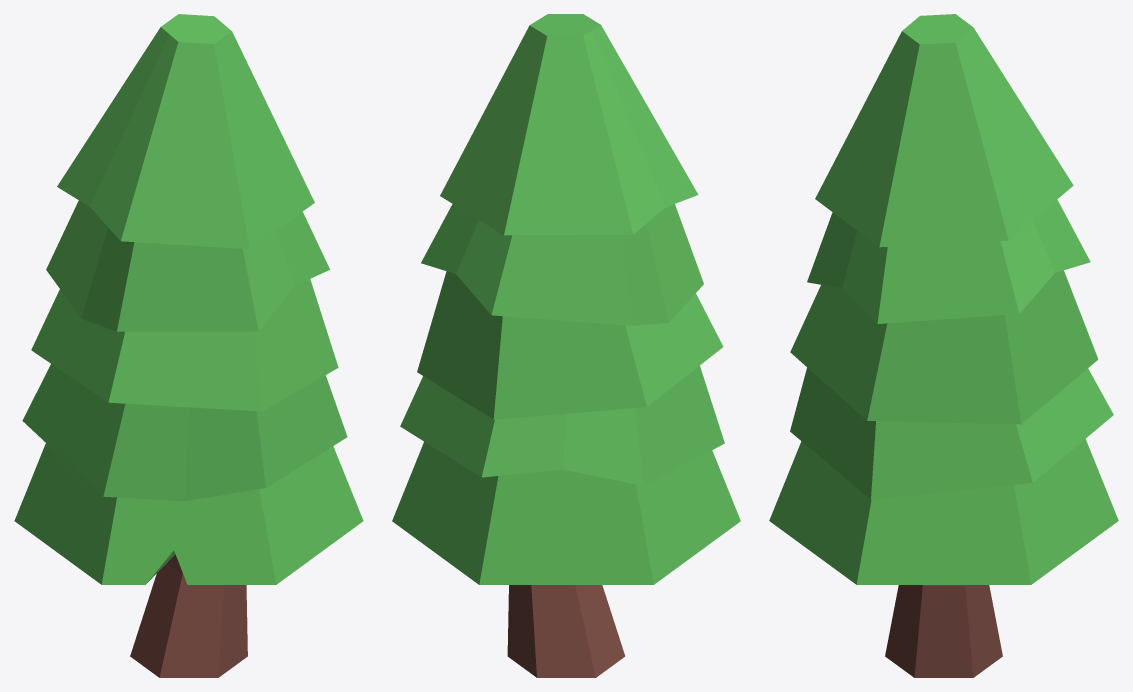
File: Tree again.fbx
3 views of the same model, side by side, from view 1: azimuth 30°, elevation 25°; view 2: azimuth 150°, elevation 25°; view 3: azimuth 270°, elevation 25° (orthographic).
Visible parts, largest first — view 1: Tree; view 2: Tree; view 3: Tree.
Boxes of the visible parts, x1,y1,x2,y2 form: Tree: (14, 14, 363, 677); Tree: (392, 14, 740, 677); Tree: (769, 14, 1118, 677).
Size of the model in its own units: 430 by 990 by 497.
